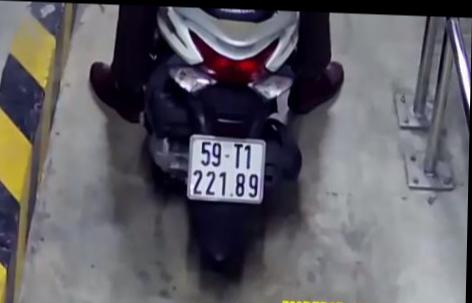LP: (188, 131, 267, 201)
